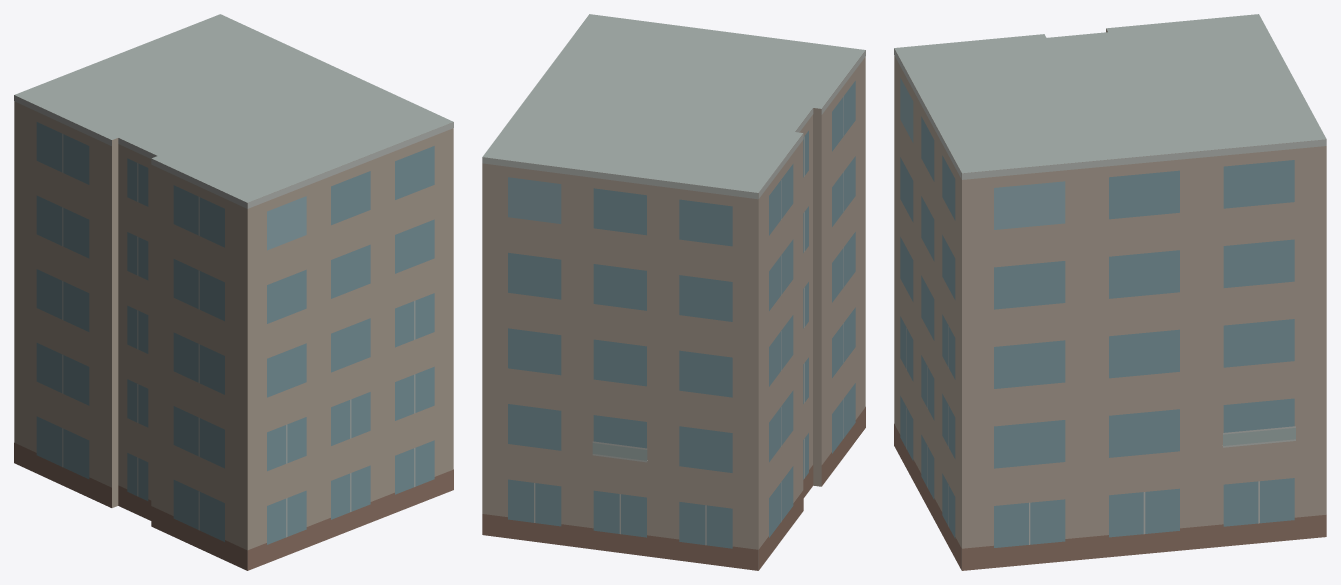
The model's file is survey-upis-32707282.glb.
3 renders of one model, left to right at view 1: azimuth 30°, elevation 25°; view 2: azimuth 150°, elevation 25°; view 3: azimuth 270°, elevation 25°, orthographic. The views are drawn at different scales.
Visible parts, largest first — view 1: survey-upis-32707282.tmp; view 2: survey-upis-32707282.tmp; view 3: survey-upis-32707282.tmp.
Boxes of the visible parts, <box> form: survey-upis-32707282.tmp: <box>14,14,453,570</box>; survey-upis-32707282.tmp: <box>482,14,865,570</box>; survey-upis-32707282.tmp: <box>894,14,1326,570</box>.
Bounding box in the file's own units: 12.56 × 14.6 × 14.41.
